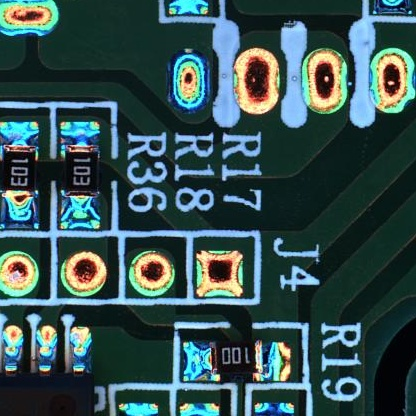spot: (301, 47, 348, 117), (232, 47, 281, 114), (368, 46, 416, 113), (165, 49, 211, 115), (195, 250, 245, 299), (60, 250, 109, 299), (128, 250, 176, 299), (1, 1, 61, 38), (1, 250, 40, 297)
